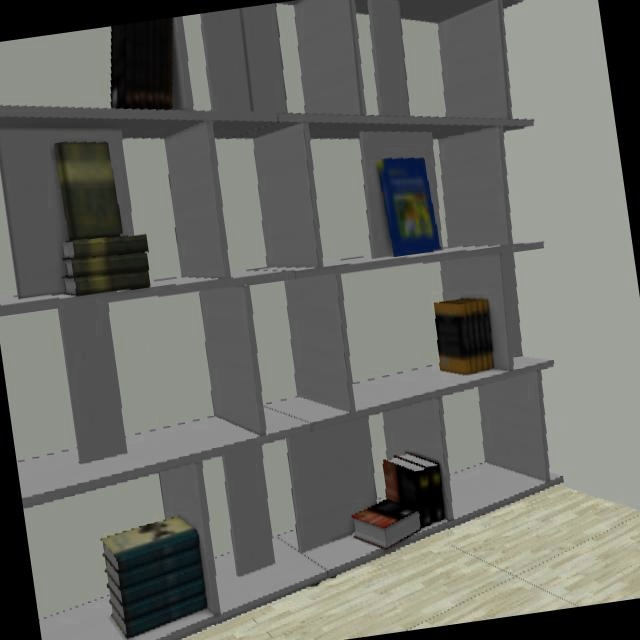book: (59, 144, 150, 298), (103, 520, 210, 640), (352, 453, 444, 552), (110, 17, 182, 112), (377, 157, 441, 257), (434, 298, 498, 377)
